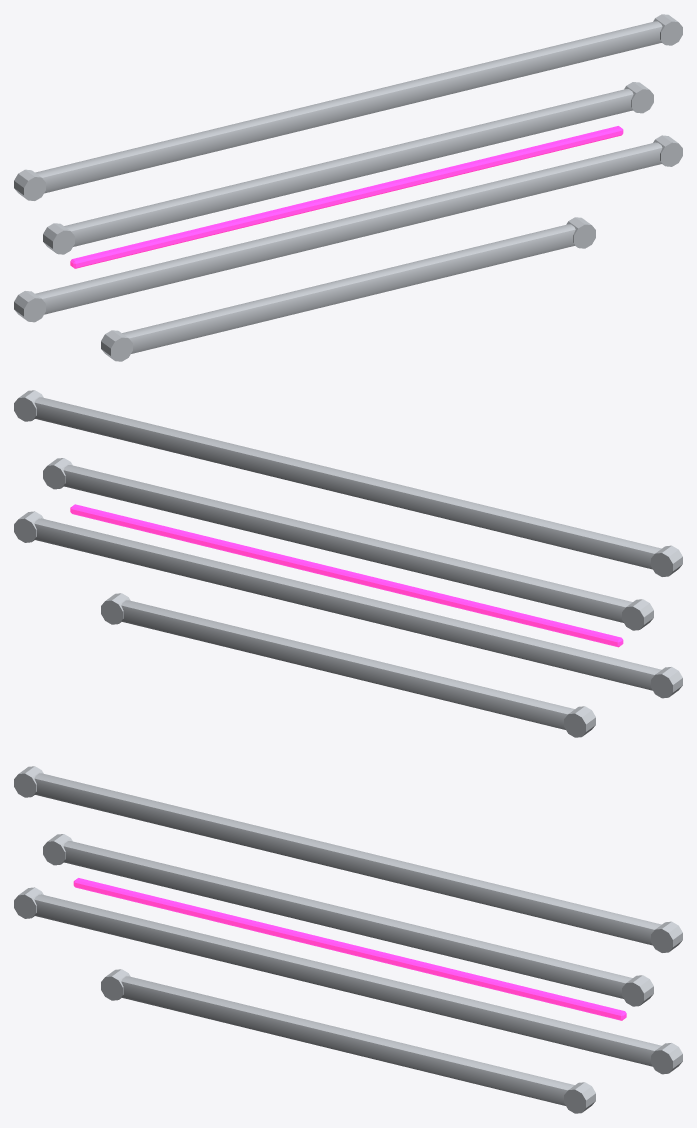
Rendered from front_trim_set.glb.
3 views of the same model, one above another, from view 1: azimuth 30°, elevation 25°; view 2: azimuth 150°, elevation 25°; view 3: azimuth 330°, elevation 25° (orthographic).
Visible parts, largest first — view 1: chrome, lamp_pink; view 2: chrome, lamp_pink; view 3: chrome, lamp_pink.
Boxes of the visible parts, x1,y1,x2,y2 form: chrome: [14, 14, 682, 361]; lamp_pink: [70, 126, 623, 268]; chrome: [14, 390, 682, 737]; lamp_pink: [70, 504, 623, 647]; chrome: [14, 766, 682, 1113]; lamp_pink: [73, 878, 626, 1020].
Bounding box in the file's own units: 2.28 × 0.68 × 0.06.
